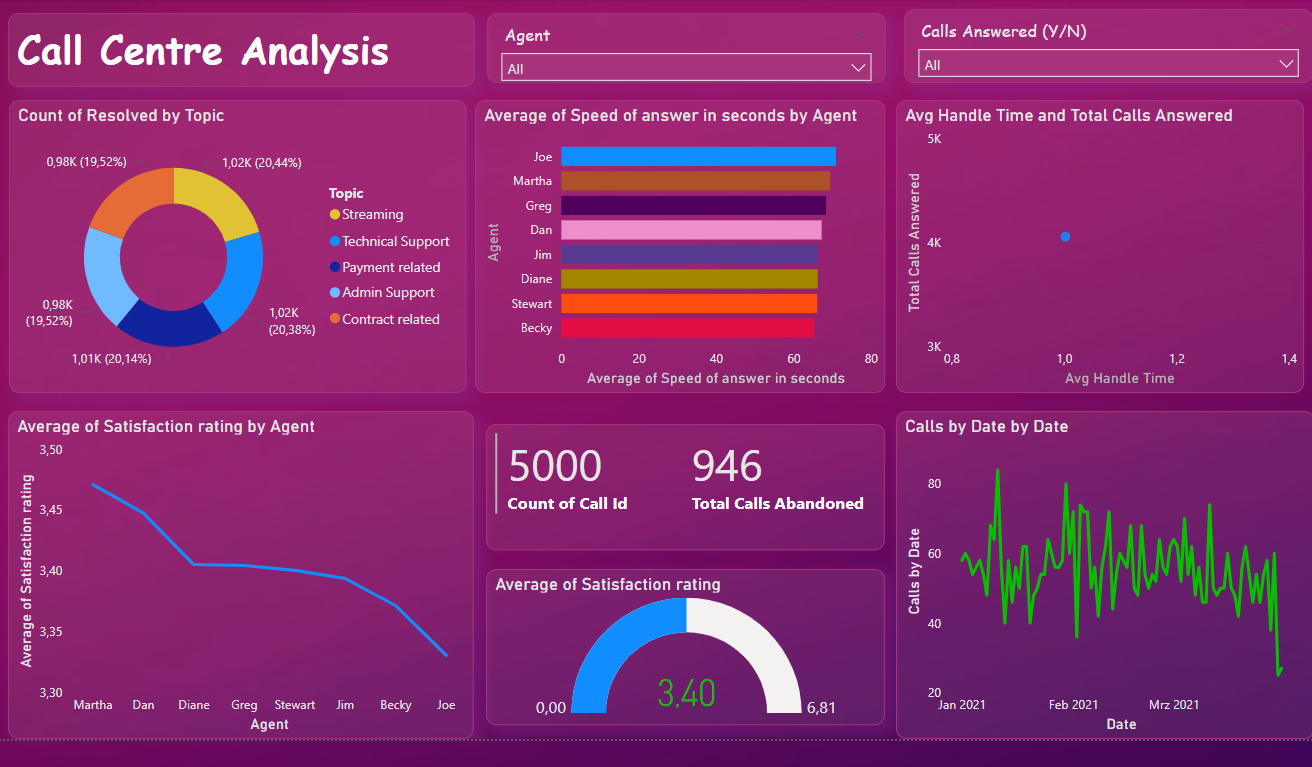

This screenshot's page, from the dashboard's own definition file:
{"tool":"powerbi","page":{"name":"Seite 1","canvas":[1280,720],"ordinal":0},"visuals":[{"type":"donutChart","fields":{"Category":["Sheet1.Topic"],"Y":["Sheet1.Resolved"]},"box":[11,98,445,285],"z":0},{"type":"textbox","box":[10,14,454,72],"z":1000},{"type":"barChart","fields":{"Category":["Sheet1.Agent"],"Y":["Sheet1.Speed of answer in seconds"]},"box":[464,98,399,285],"z":2000},{"type":"lineChart","fields":{"Category":["Sheet1.Agent"],"Y":["Sheet1.Satisfaction rating"]},"box":[10,401,453,319],"z":3000},{"type":"slicer","fields":{"Values":["Sheet1.Agent"]},"box":[475.3,13.6,387.8,68],"z":4000},{"type":"slicer","fields":{"Values":["Sheet1.Answered (Y/N)"]},"box":[881.5,9.7,398.5,71.9],"z":5000},{"type":"multiRowCard","fields":{"Values":["Sheet1.Call Id","Sheet1.Total Calls Abandoned"]},"box":[475,413,388,123],"z":6000},{"type":"scatterChart","fields":{"X":["Sheet1.Avg Handle Time"],"Y":["Sheet1.Total Calls Answered"]},"box":[873,98,397,285],"z":7000},{"type":"lineChart","fields":{"Category":["Sheet1.Date"],"Y":["Sheet1.Calls by Date"]},"box":[873,401,407,319],"z":8000},{"type":"gauge","fields":{"Y":["Sheet1.Satisfaction rating"]},"box":[475,554,388,152],"z":9000}]}

Visuals, with their boxes on the page's 1280x720 design canvas (x1, y1, x2, y2). These are canvas units, not pixel positions in the 1312x767 screenshot, which may show the page scaled, cropped or inside an application window:
donutChart - Sheet1.Topic x Sheet1.Resolved: left=11, top=98, right=456, bottom=383
textbox: left=10, top=14, right=464, bottom=86
barChart - Sheet1.Agent x Sheet1.Speed of answer in seconds: left=464, top=98, right=863, bottom=383
lineChart - Sheet1.Agent x Sheet1.Satisfaction rating: left=10, top=401, right=463, bottom=720
slicer - Sheet1.Agent: left=475, top=14, right=863, bottom=82
slicer - Sheet1.Answered (Y/N): left=882, top=10, right=1280, bottom=82
multiRowCard - Sheet1.Call Id x Sheet1.Total Calls Abandoned: left=475, top=413, right=863, bottom=536
scatterChart - Sheet1.Avg Handle Time x Sheet1.Total Calls Answered: left=873, top=98, right=1270, bottom=383
lineChart - Sheet1.Date x Sheet1.Calls by Date: left=873, top=401, right=1280, bottom=720
gauge - Sheet1.Satisfaction rating: left=475, top=554, right=863, bottom=706
